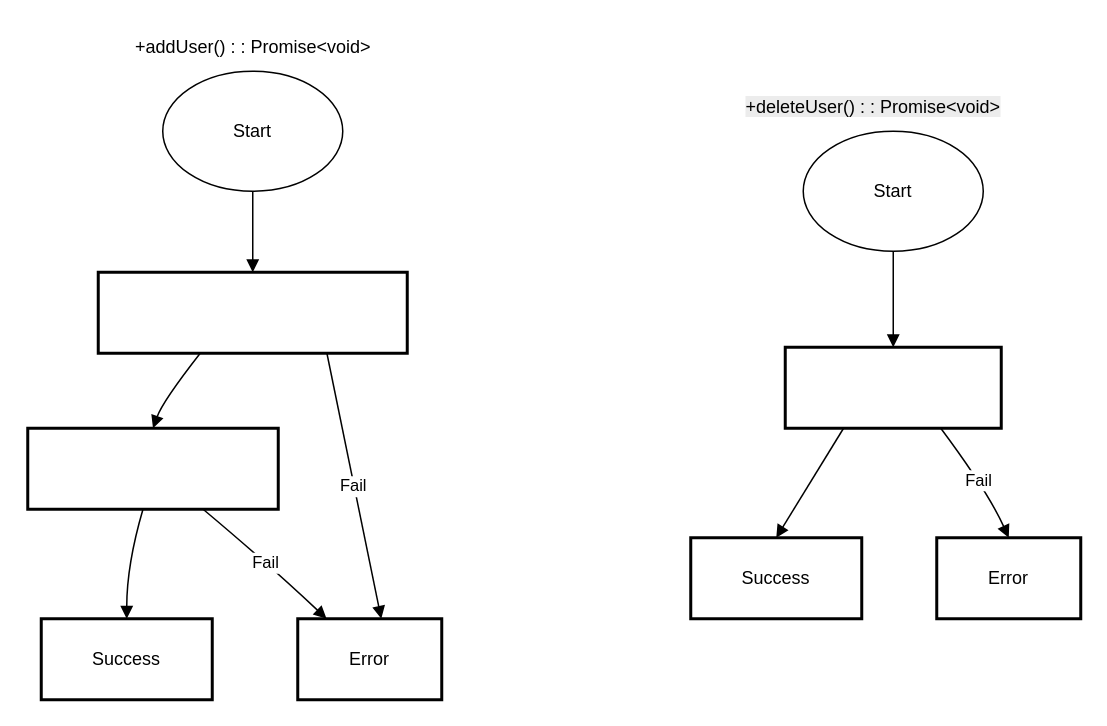
This 1107x726 diagram has some shape labels left out. Each missing label, with the box of its shape:
Create User Account: (96, 270, 408, 354)
Delete User: (783, 345, 1002, 429)
Save User Data: (26, 426, 279, 510)
